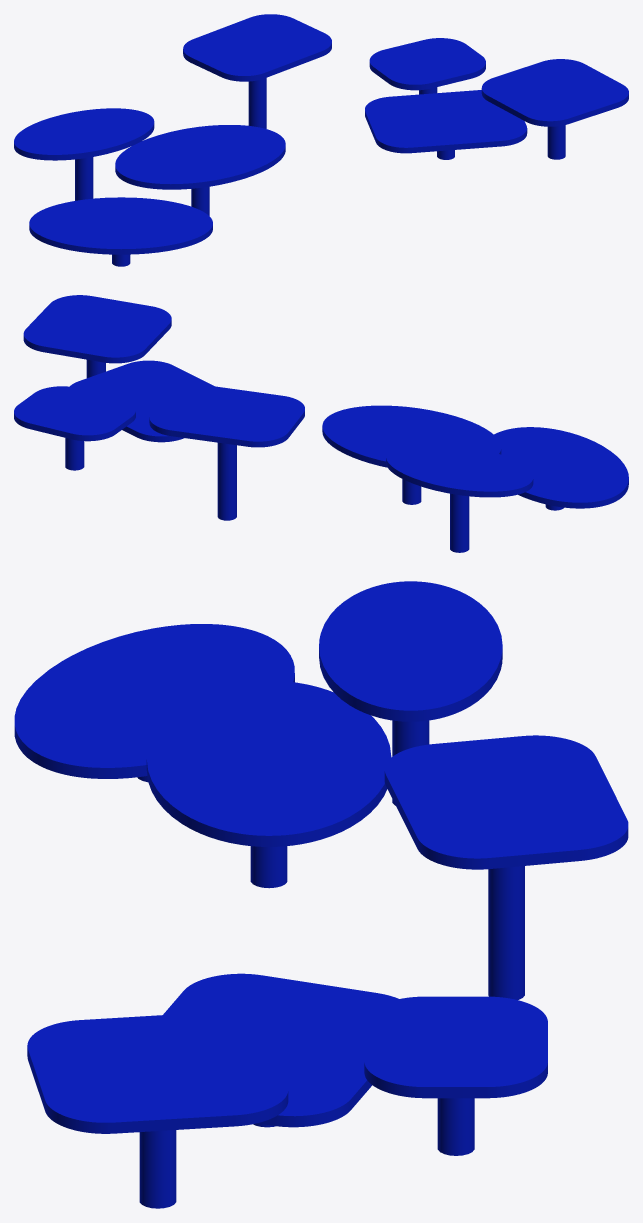
File: Counter_8_Exhibition_Table_Display_Glass.FBX
3 views of the same model, one above another, from view 1: azimuth 30°, elevation 25°; view 2: azimuth 150°, elevation 25°; view 3: azimuth 270°, elevation 25° (orthographic). The views are drawn at different scales.
Visible parts, largest first — view 1: Counter_8_Exhibition_Table_Display_Glass; view 2: Counter_8_Exhibition_Table_Display_Glass; view 3: Counter_8_Exhibition_Table_Display_Glass.
Part boxes in pixels (<box>): Counter_8_Exhibition_Table_Display_Glass: <box>14,14,628,266</box>; Counter_8_Exhibition_Table_Display_Glass: <box>14,295,628,552</box>; Counter_8_Exhibition_Table_Display_Glass: <box>14,581,628,1208</box>.
Bounding box in the file's own units: 107 × 17.76 × 50.14.
